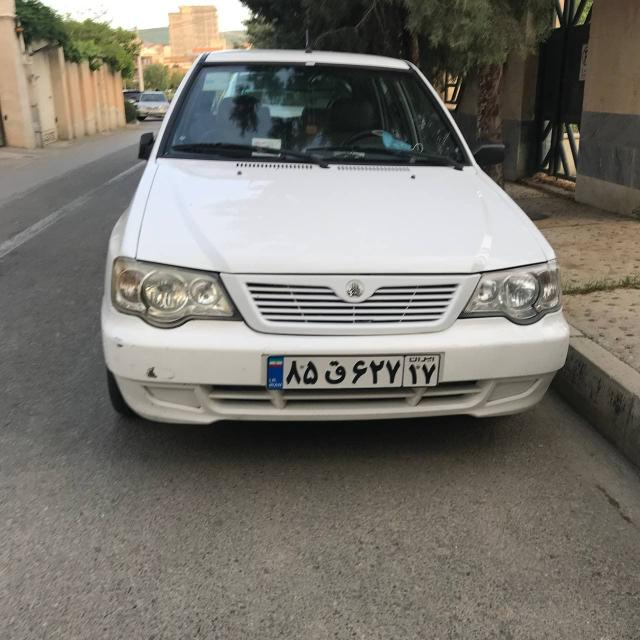Plates: (268, 355, 440, 389)
